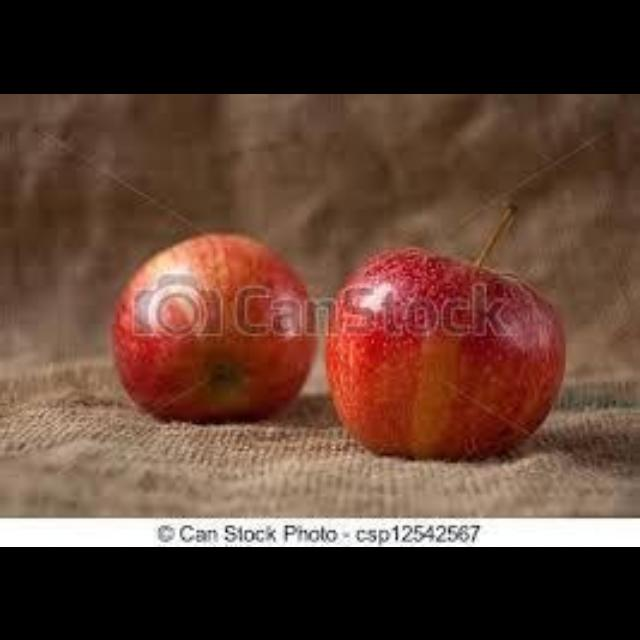apple: (328, 206, 563, 457), (110, 232, 314, 419)
